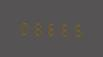eight: (31, 19, 43, 36)
five: (70, 20, 82, 38)
six: (44, 19, 56, 37), (57, 20, 69, 37)
zero: (18, 18, 30, 36)
